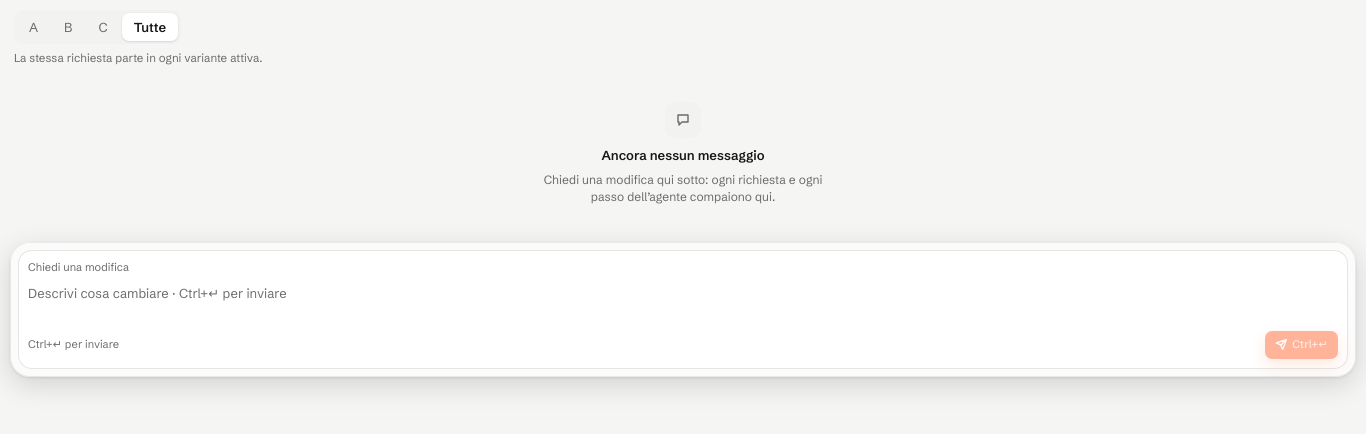
chat selector › a refused "Tutte" keeps the text and says so
Type "Ciao" into the text box labelled "Chiedi una modifica".
click(683, 303); type("Ciao")  # box [28,284,1338,323]
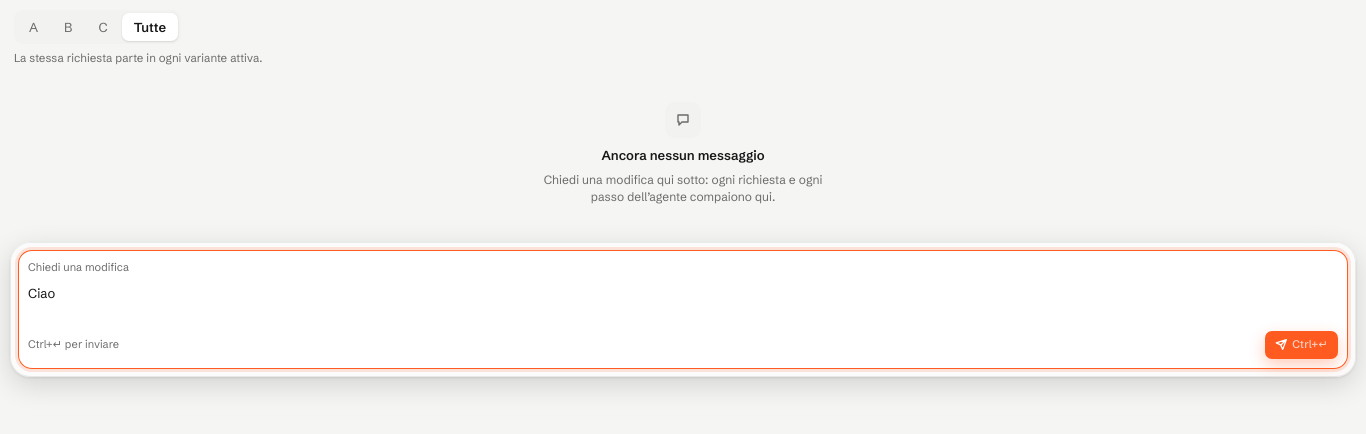
Click the button with aria-label "Invia".
click(1302, 345)  # box [1265,331,1338,359]
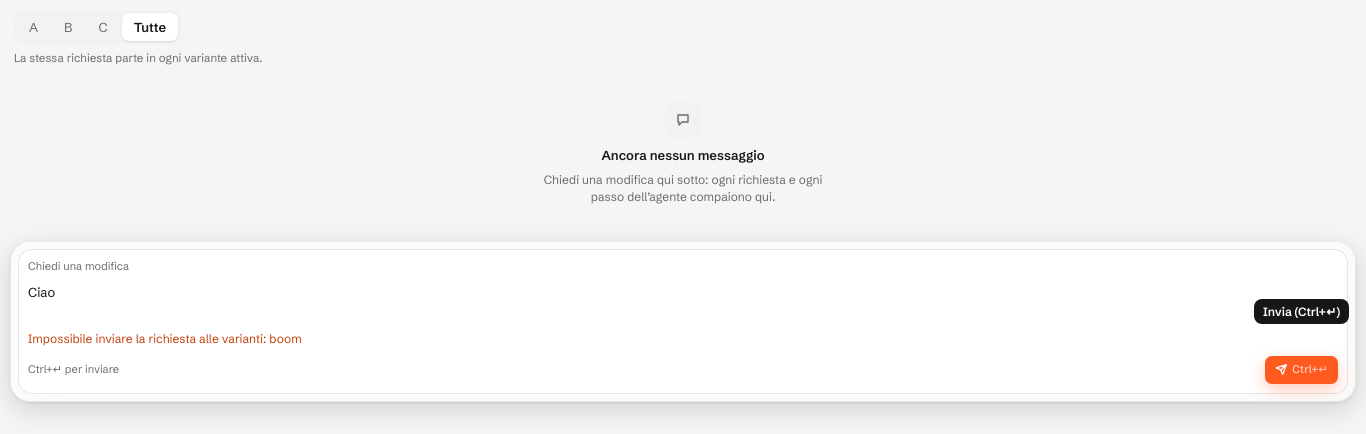
Expected: the message reads "Impossibile inviare la richiesta alle varianti: boom", [28,331,302,346]
